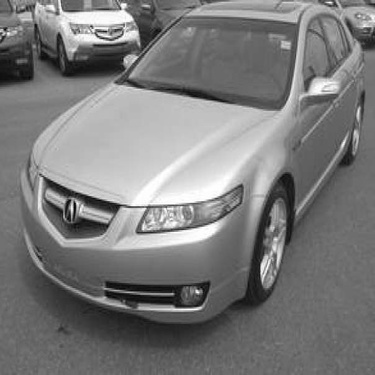car: (17, 1, 367, 330), (32, 1, 144, 73), (116, 1, 217, 46), (308, 1, 371, 50), (1, 4, 36, 79)
